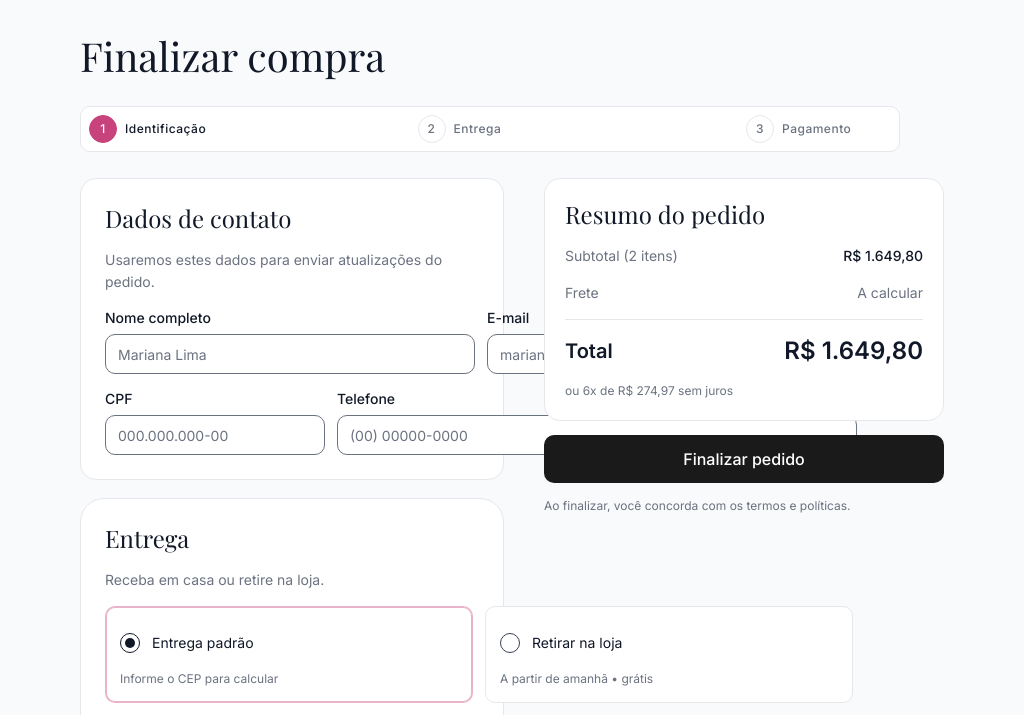
Test: CheckoutPage › com itens › aplica máscara no CPF e calcula o frete pelo CEP
Type "11144477735" into the field labelled "CPF" at [215, 435], box [105,415,325,455]
(page scrolled)
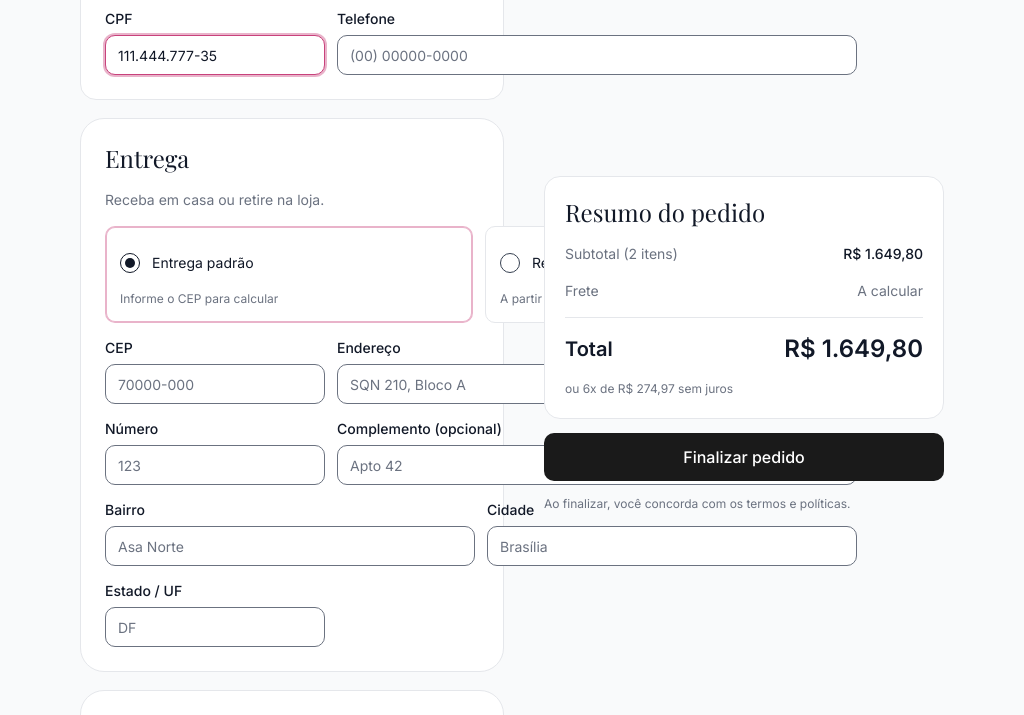
Now the field labelled "CPF" holds "111.444.777-35", box [105,35,325,75]
Type "70000000" into the field labelled "CEP" at [215, 384], box [105,364,325,404]
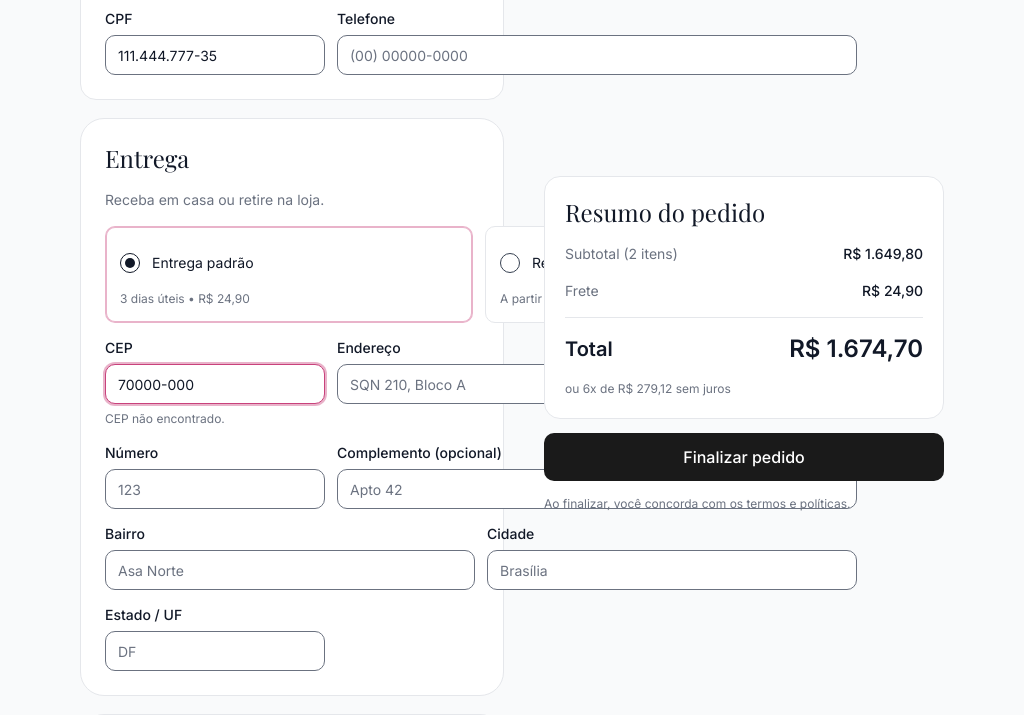
Now the field labelled "CEP" holds "70000-000", box [105,364,325,404]
Now the text "3 dias úteis • R$ 24,90" is shown, box [120,290,250,308]
